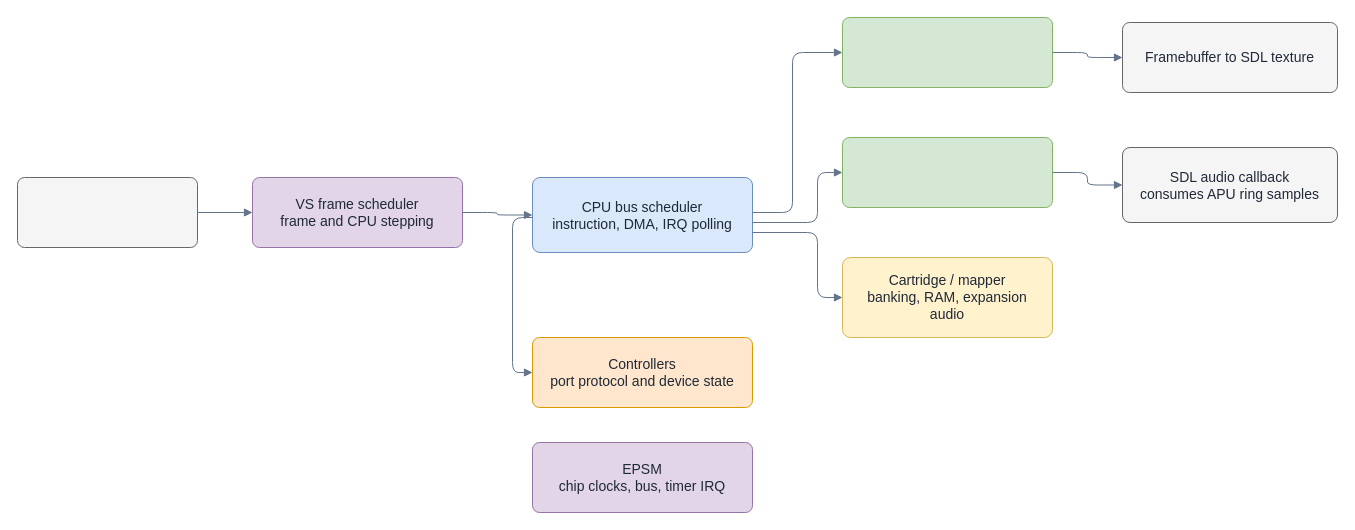
Image size: 1355x530. Some labels were removed from this diagram. Here are the shapes that lost their labels. From the top down, the box of each, then its label:
(842, 16, 1052, 88): PPU clocks, rendering, memory
(842, 136, 1052, 208): APU clocks, mixing, sample ring
(16, 176, 198, 248): SDL frontend events, display, audio
